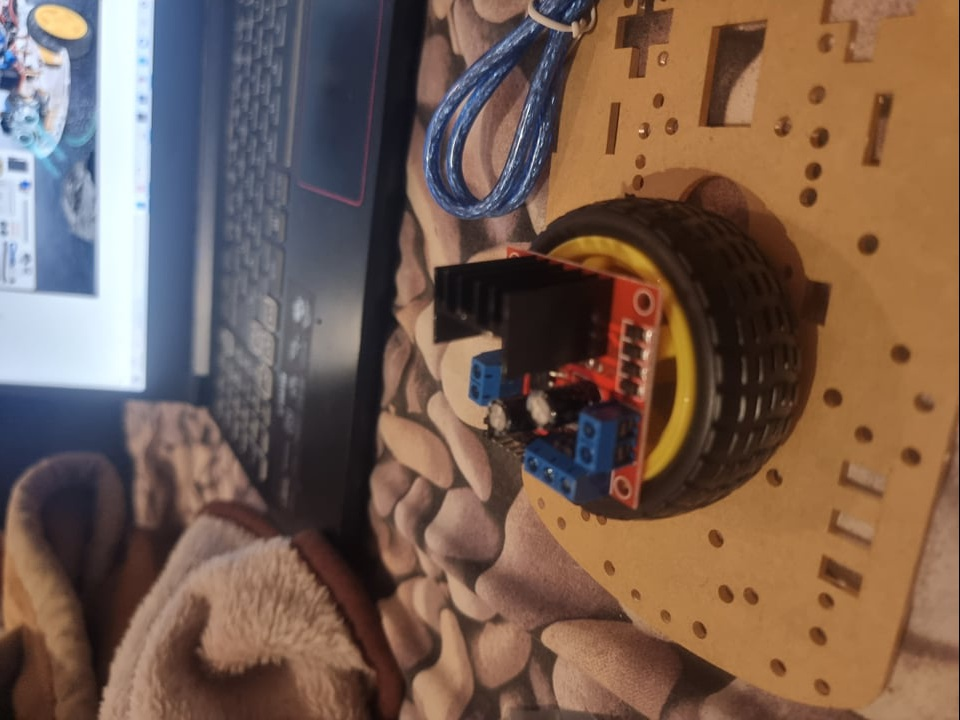MOTOR: (432, 241, 665, 508)
